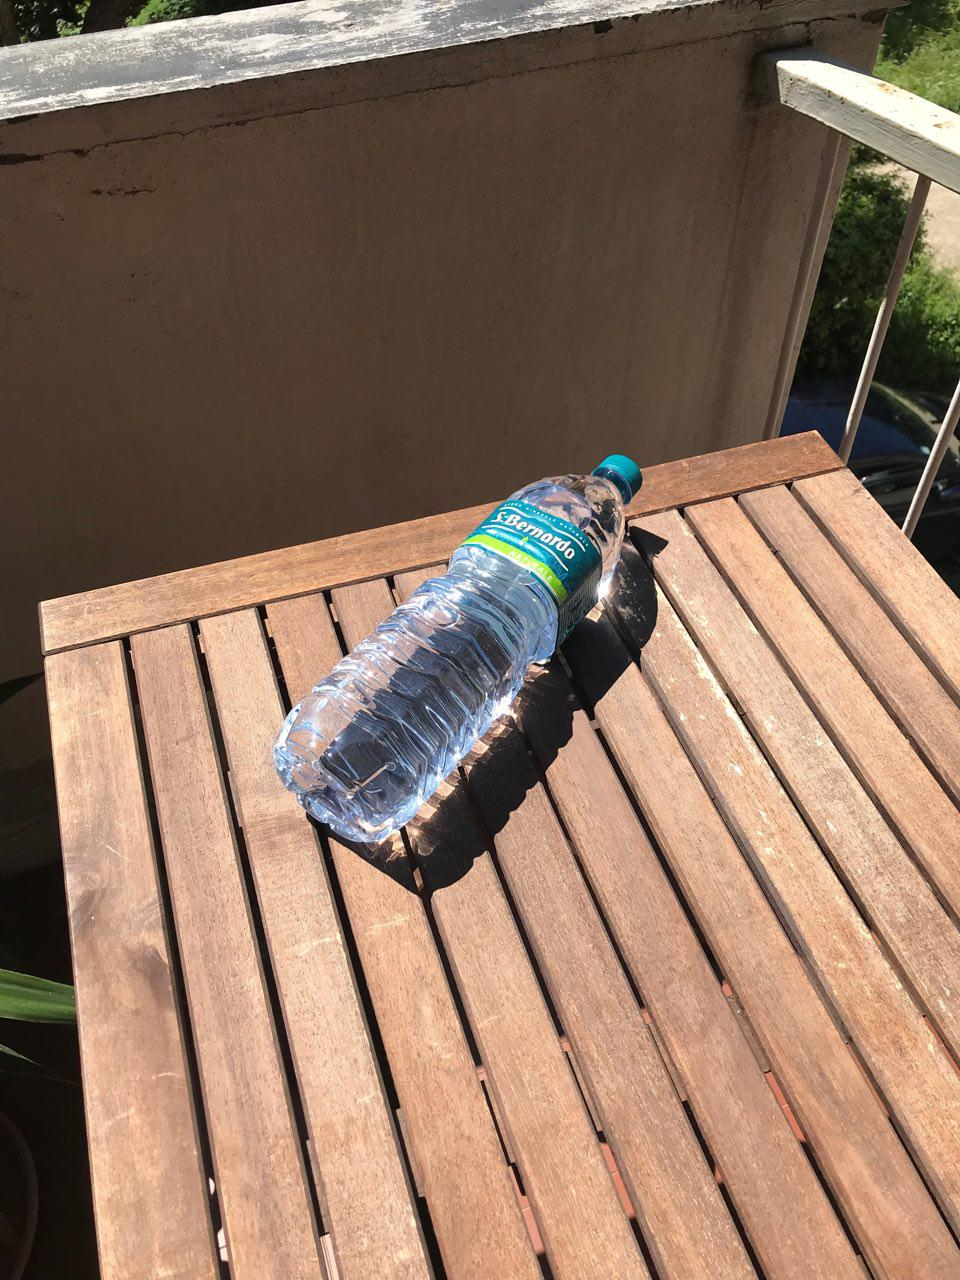san_bernardo: (273, 452, 644, 844)
